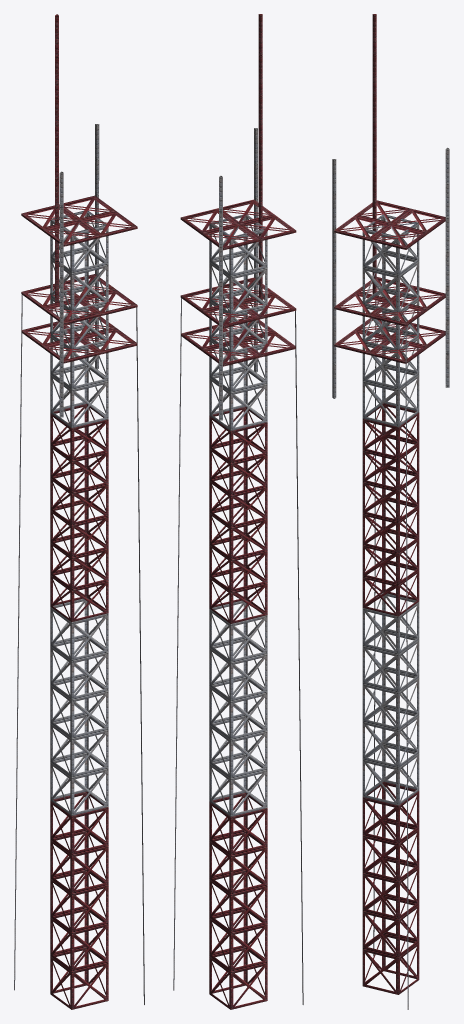
File: mtower3.fbx
3 renders of one model, left to right at view 1: azimuth 30°, elevation 25°; view 2: azimuth 210°, elevation 25°; view 3: azimuth 330°, elevation 25°, orthographic. The views are drawn at different scales.
Visible parts, largest first — view 1: mesh_1, mesh_2, mesh_8, mesh_9, mesh_10, mesh_6, mesh_5, mesh_4, mesh_3, mesh_7; view 2: mesh_1, mesh_2, mesh_8, mesh_9, mesh_10, mesh_3, mesh_4, mesh_5, mesh_7, mesh_6; view 3: mesh_1, mesh_2, mesh_8, mesh_9, mesh_10, mesh_3, mesh_7, mesh_6, mesh_5, mesh_4.
Boxes of the visible parts, x1,y1,x2,y2 form: mesh_1: [50, 404, 108, 1009]; mesh_2: [50, 212, 108, 815]; mesh_8: [21, 195, 137, 246]; mesh_9: [21, 274, 137, 324]; mesh_10: [21, 313, 137, 363]; mesh_6: [59, 171, 63, 417]; mesh_5: [136, 307, 144, 1004]; mesh_4: [14, 294, 22, 990]; mesh_3: [55, 14, 58, 302]; mesh_7: [95, 124, 99, 369]; mesh_1: [209, 407, 267, 1009]; mesh_2: [209, 216, 267, 816]; mesh_8: [180, 199, 296, 250]; mesh_9: [180, 277, 296, 328]; mesh_10: [181, 317, 295, 366]; mesh_3: [258, 14, 262, 299]; mesh_4: [295, 310, 303, 1004]; mesh_5: [173, 298, 181, 990]; mesh_7: [219, 175, 222, 420]; mesh_6: [254, 128, 257, 372]; mesh_1: [362, 403, 419, 994]; mesh_2: [362, 216, 419, 805]; mesh_8: [334, 200, 445, 249]; mesh_9: [334, 277, 445, 326]; mesh_10: [334, 315, 445, 363]; mesh_3: [372, 14, 376, 294]; mesh_7: [445, 147, 449, 387]; mesh_6: [332, 159, 336, 398]; mesh_5: [405, 326, 408, 1009]; mesh_4: [373, 300, 376, 956].
Bounding box in the file's own units: 225 × 2542 × 225.
Materials: 3 (3 with a texture image).
